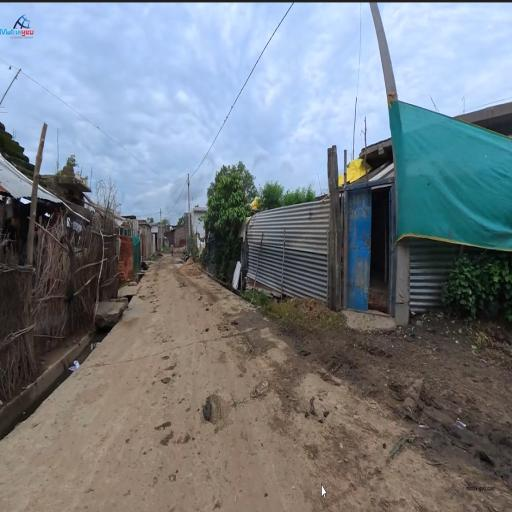longitudinal_crack: (93, 319, 269, 379)
